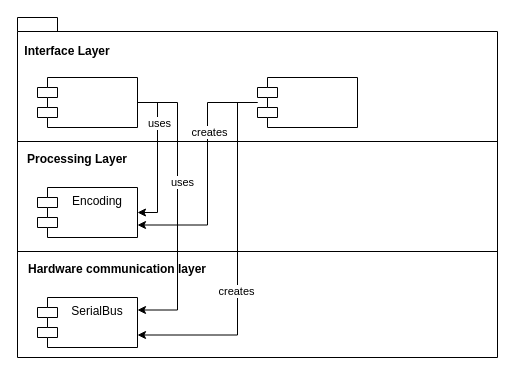
This 515x375 diagram has some shape labels left out. The centre of each missing label's shape, as x and y in pixels:
Bus- Transceiver: the point at 87,102
Factory: the point at 307,102
